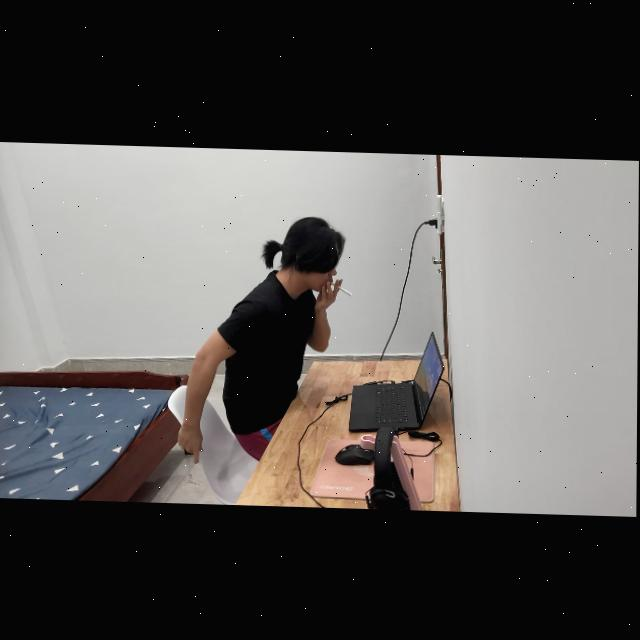cigarette: (330, 280, 352, 294)
